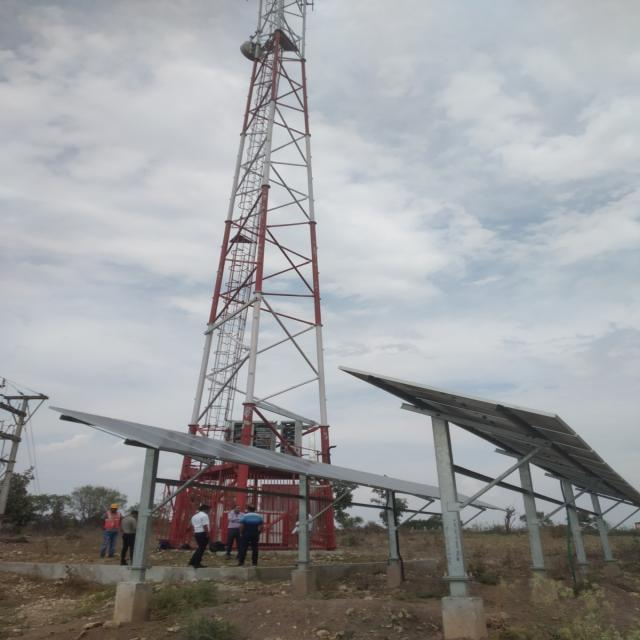Microwave Antenna: (236, 35, 268, 63)
